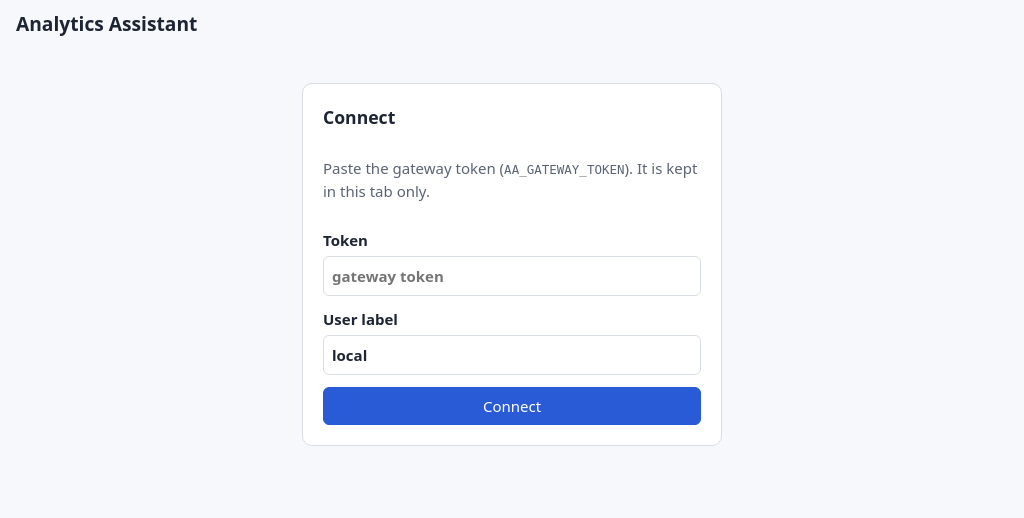
Test: App › drops a rejected token and shows why
This screenshot has width=1024, height=518.
Step 1. Type "wrong-token" into the password field labelled "Token" → (512, 276), box [323,256,701,296]
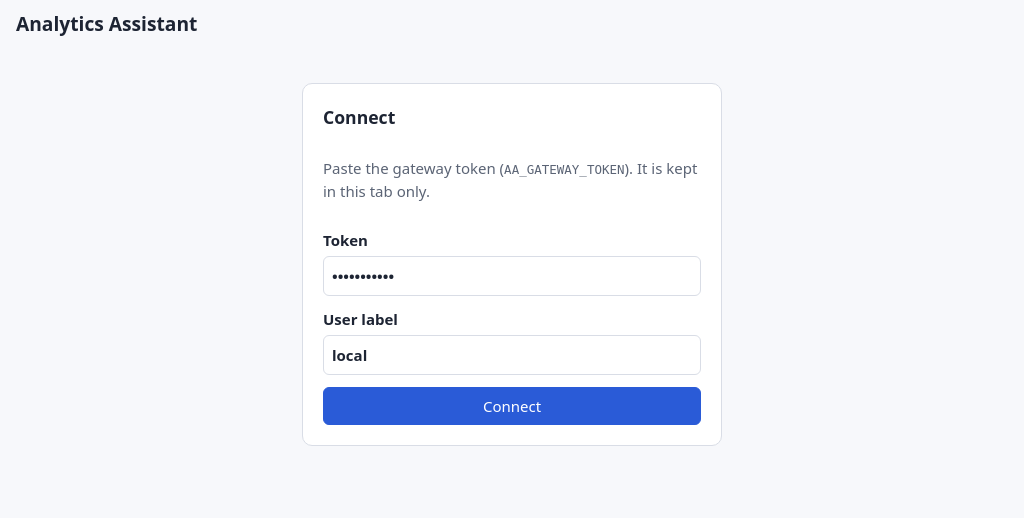
Step 2. Click the button "Connect" → (512, 406), box [323,387,701,425]
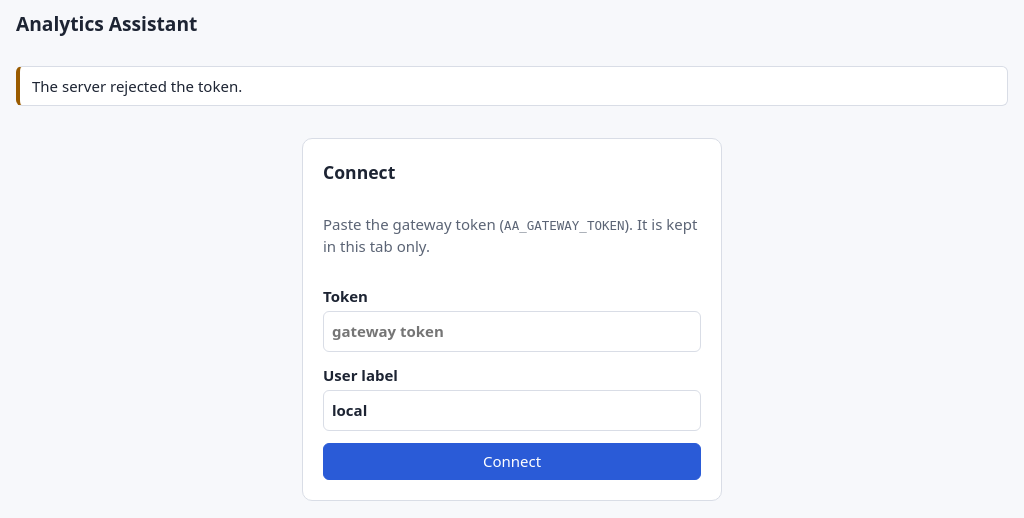
Check: the form "Connect" is shown, box [302,138,722,501]
Check: the message reads "The server rejected the token.", box [32,76,242,96]
